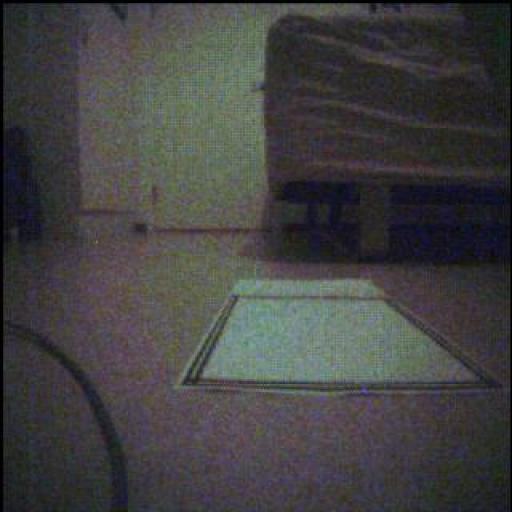pad: (179, 281, 500, 395)
